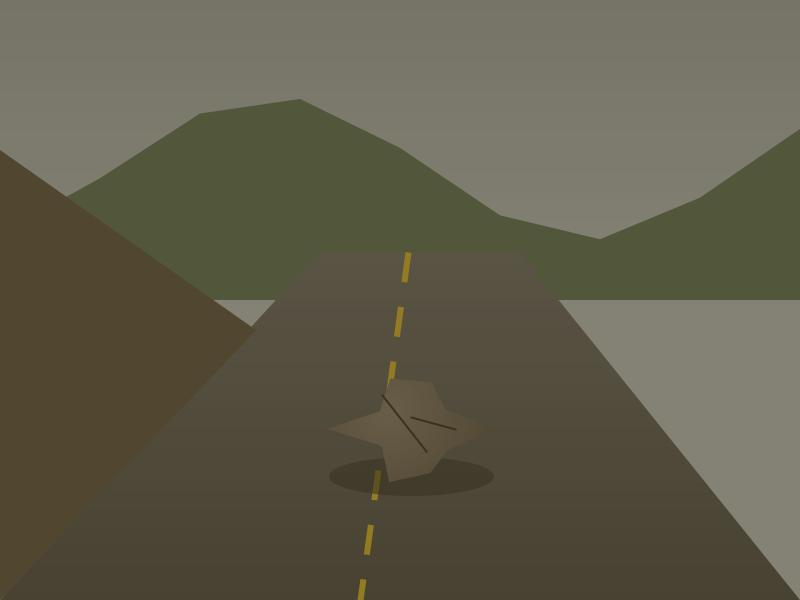ROAD_OBSTACLE: (339, 373, 484, 485)
